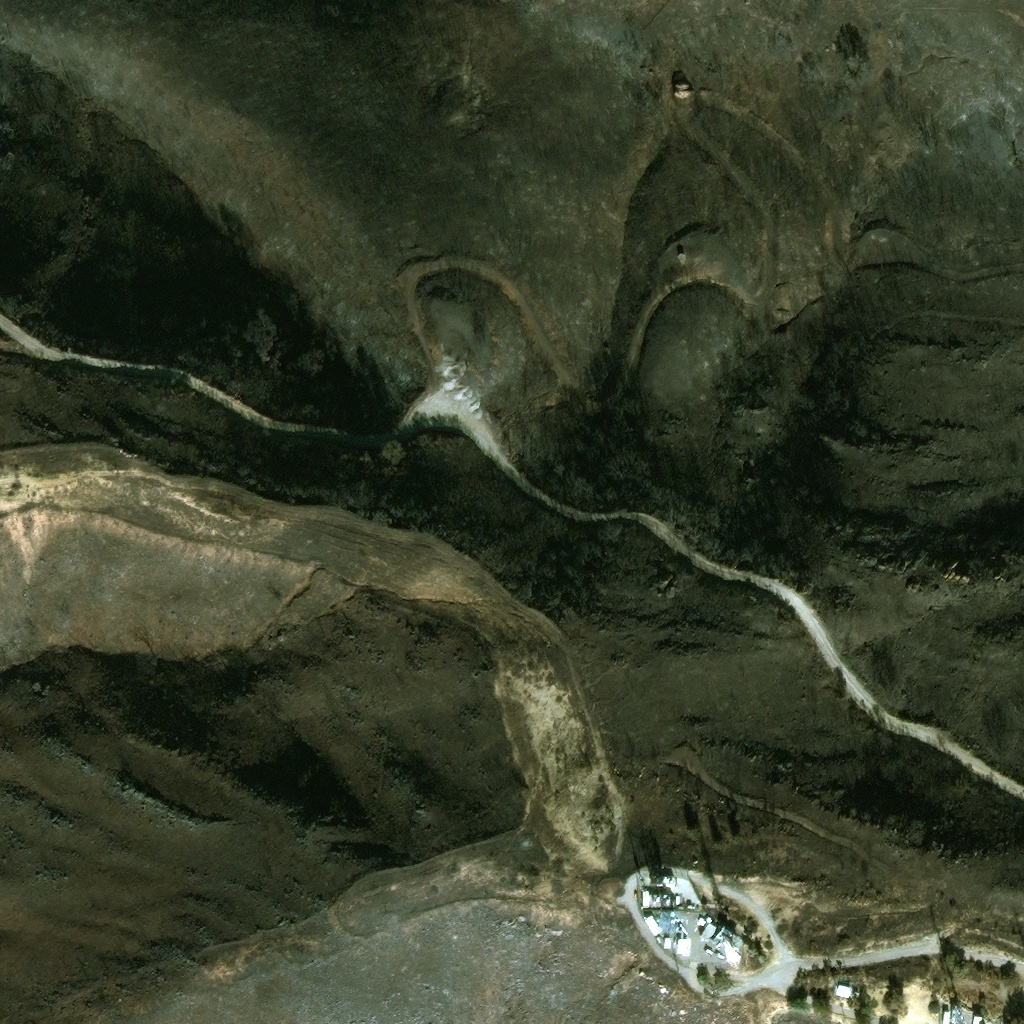0 no-damage: (642, 913, 661, 935), (651, 875, 674, 886), (700, 922, 715, 937), (674, 937, 687, 953), (651, 890, 667, 903), (835, 983, 849, 996), (695, 915, 706, 927), (941, 1009, 949, 1023), (971, 1012, 981, 1023), (641, 890, 648, 905), (663, 937, 669, 947), (705, 915, 711, 922), (674, 894, 678, 902)
1 minor-damage: (678, 251, 685, 258)
